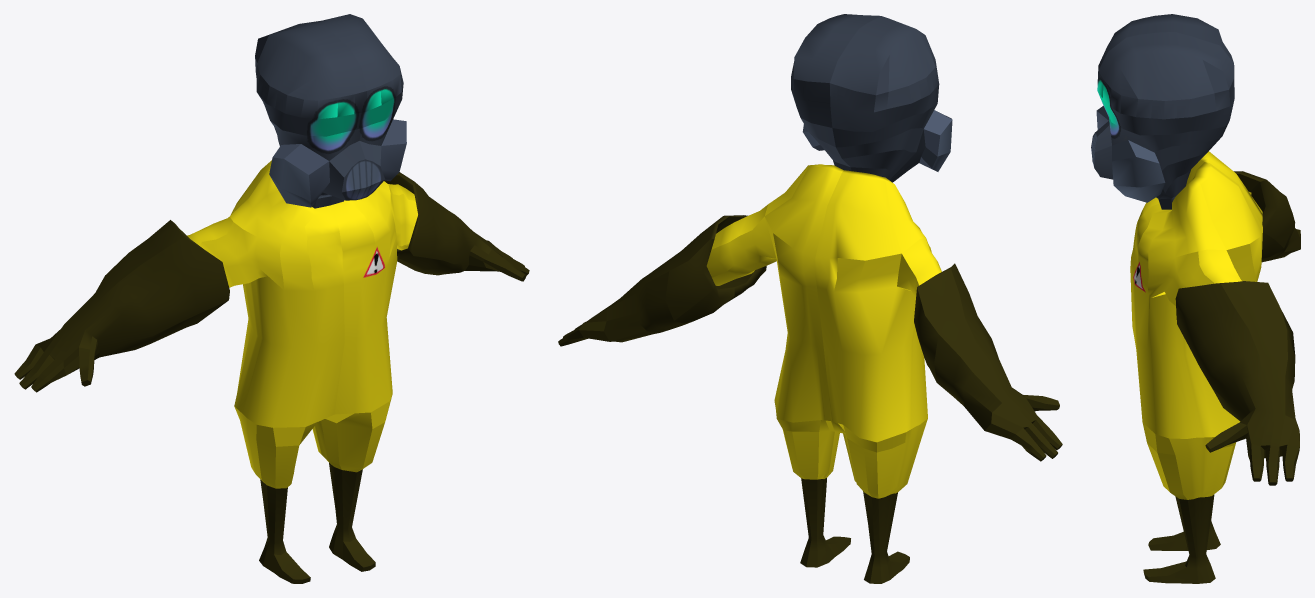
Rendered from Gasmask.fbx.
3 renders of one model, left to right at view 1: azimuth 30°, elevation 25°; view 2: azimuth 150°, elevation 25°; view 3: azimuth 270°, elevation 25°, orthographic.
Parts seen in each view (by area): view 1: BodyMesh_NPC1; view 2: BodyMesh_NPC1; view 3: BodyMesh_NPC1.
Part boxes in pixels (x1=…): BodyMesh_NPC1: x1=14, y1=14, x2=529, y2=583; BodyMesh_NPC1: x1=558, y1=14, x2=1062, y2=583; BodyMesh_NPC1: x1=1091, y1=14, x2=1300, y2=583.
Bounding box in the file's own units: 7.49 × 7.72 × 2.76.
